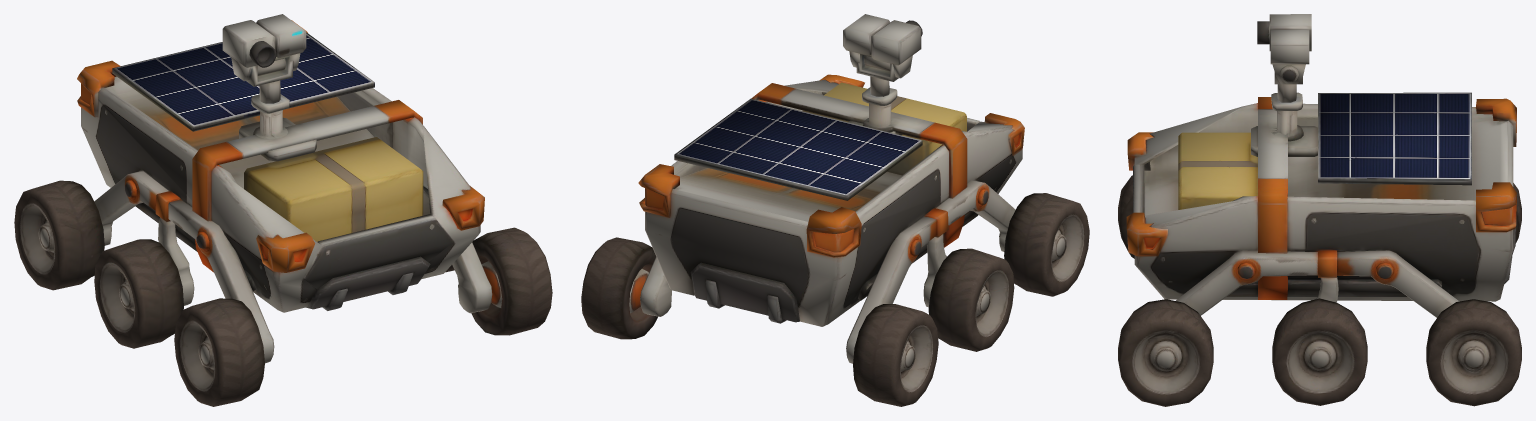
File: lunar_rover.glb
3 renders of one model, left to right at view 1: azimuth 30°, elevation 25°; view 2: azimuth 150°, elevation 25°; view 3: azimuth 270°, elevation 25°, orthographic. The views are drawn at different scales.
Visible parts, largest first — view 1: Lunar sample rover; view 2: Lunar sample rover; view 3: Lunar sample rover.
Boxes of the visible parts, <box> form: Lunar sample rover: <box>14,14,552,406</box>; Lunar sample rover: <box>581,14,1089,406</box>; Lunar sample rover: <box>1118,14,1521,406</box>.
Bounding box in the file's own units: 0.916 × 0.7832 × 0.998.
1 material, 1 textured.
